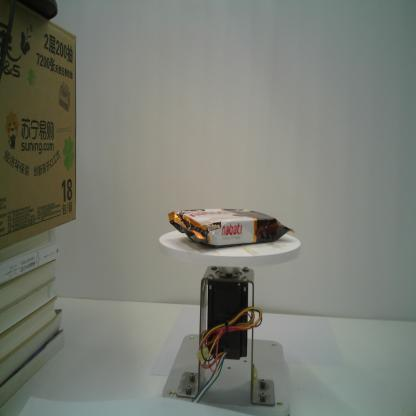Dessert: (164, 203, 295, 251)
